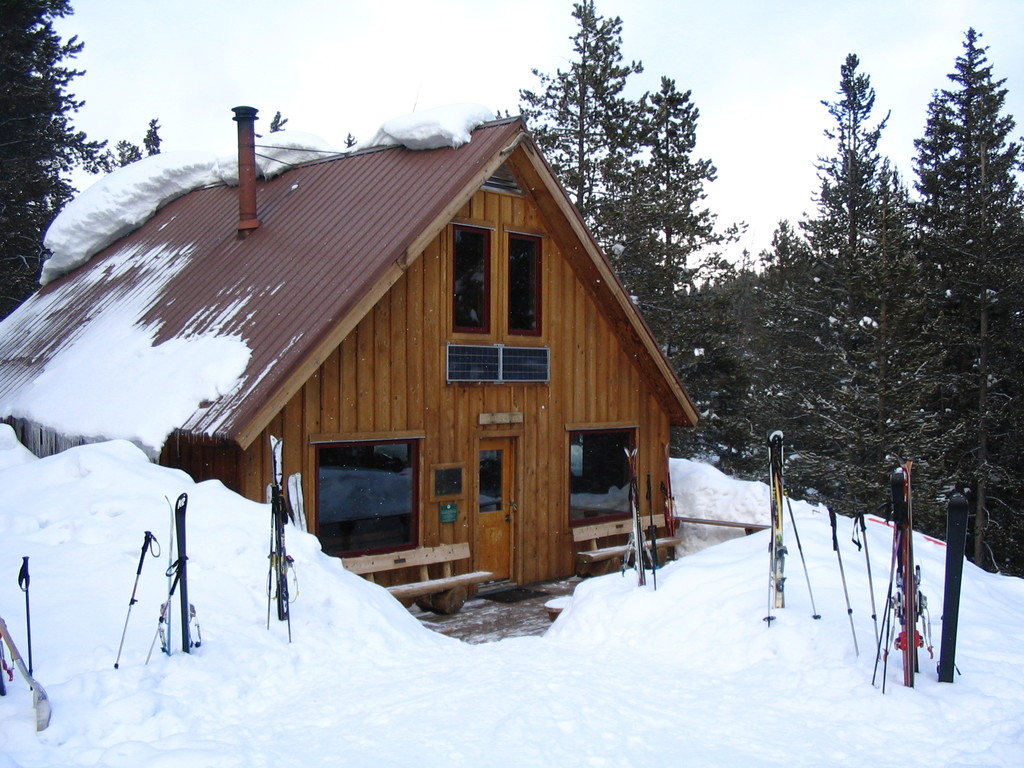Tree: (514, 0, 1023, 579), (0, 0, 163, 319)
